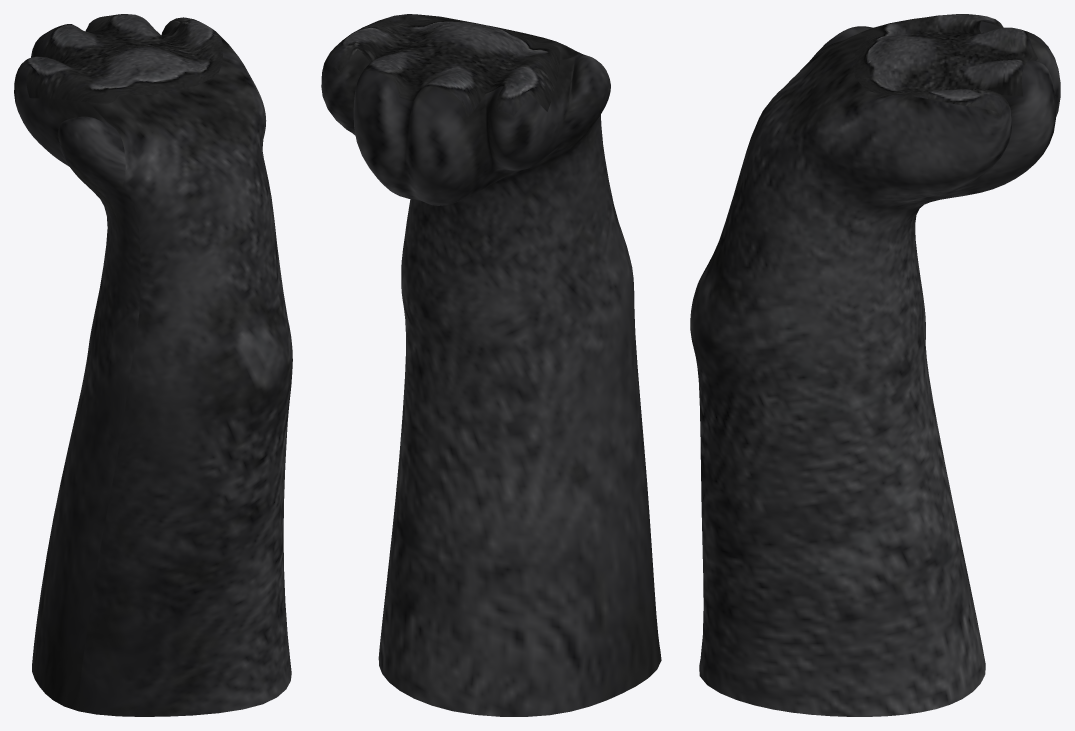
Rendered from cat-hand-R.obj.
3 views of the same model, side by side, from view 1: azimuth 30°, elevation 25°; view 2: azimuth 150°, elevation 25°; view 3: azimuth 270°, elevation 25° (orthographic). The views are drawn at different scales.
Parts seen in each view (by area): view 1: 12222_Cat_v1_l3.004; view 2: 12222_Cat_v1_l3.004; view 3: 12222_Cat_v1_l3.004.
Part boxes in pixels (x1,y1,x2,y2): 12222_Cat_v1_l3.004: (14,14,292,716); 12222_Cat_v1_l3.004: (321,14,661,716); 12222_Cat_v1_l3.004: (690,14,1060,716).
Bounding box in the file's own units: 4.61 × 11.28 × 6.
